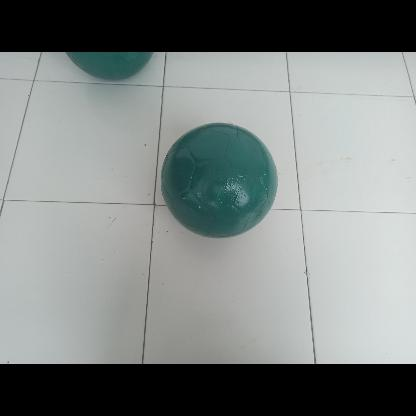green_ball: (160, 121, 278, 238)
